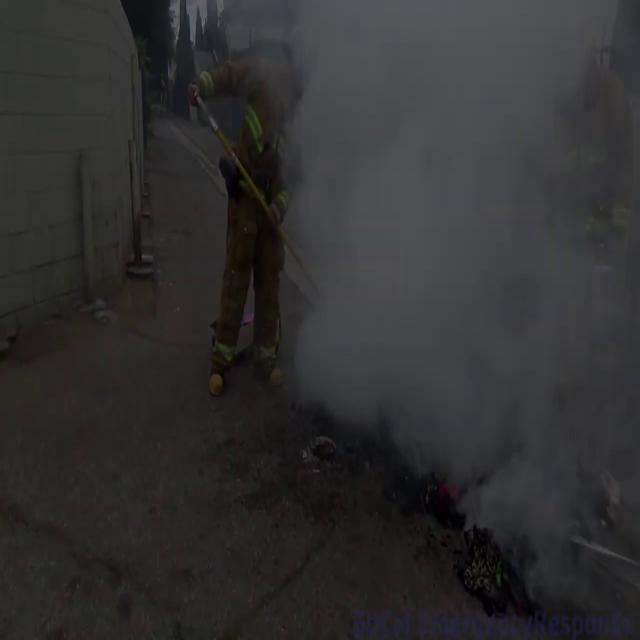Smoke: (257, 0, 640, 548)
